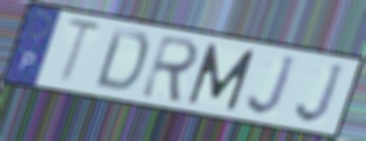D: (91, 25, 152, 94)
J: (245, 54, 299, 119), (293, 62, 347, 127)
M: (185, 41, 258, 113)
R: (138, 32, 202, 106)
T: (55, 15, 107, 89)
